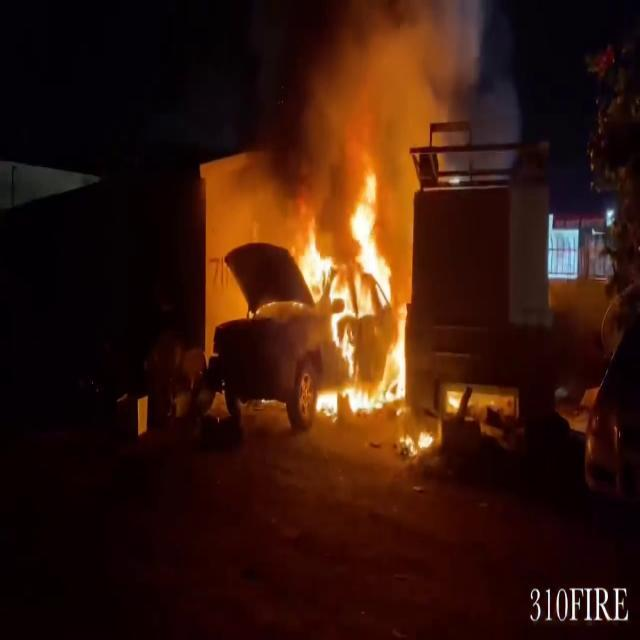Fire: (296, 152, 414, 422), (400, 421, 443, 458)
Smoke: (248, 0, 518, 192)
